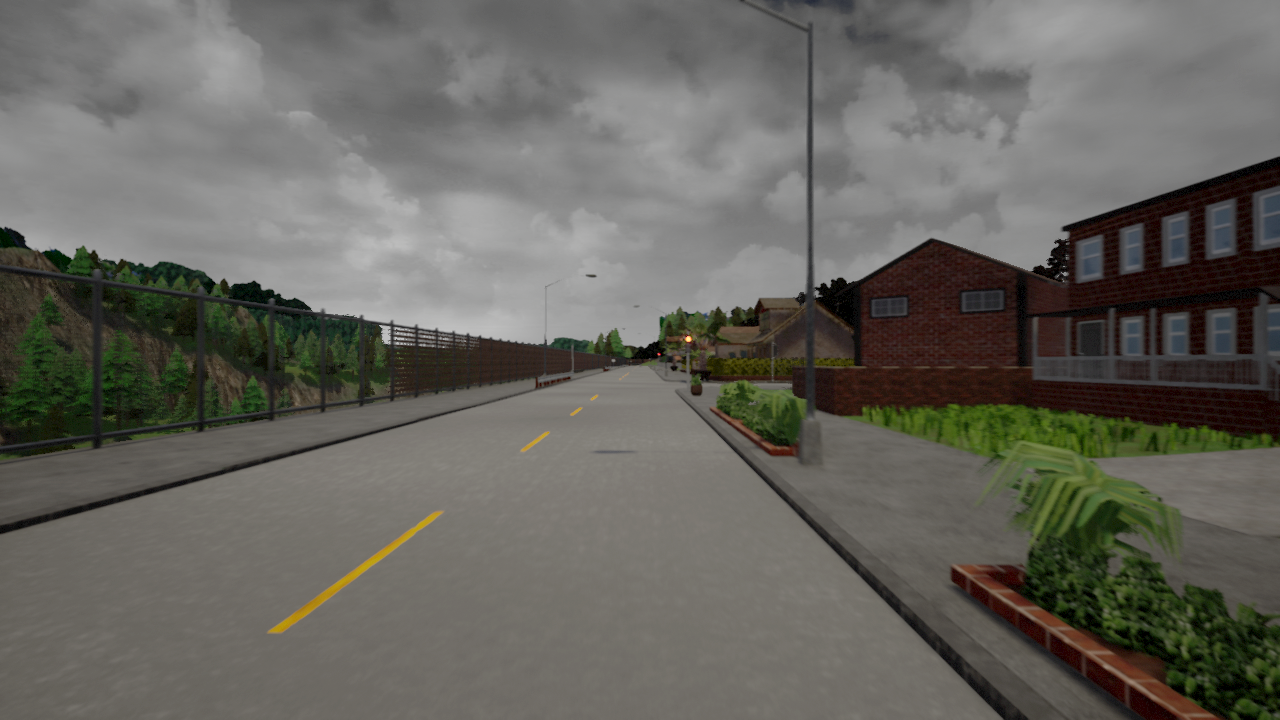red: (684, 335, 692, 354)
